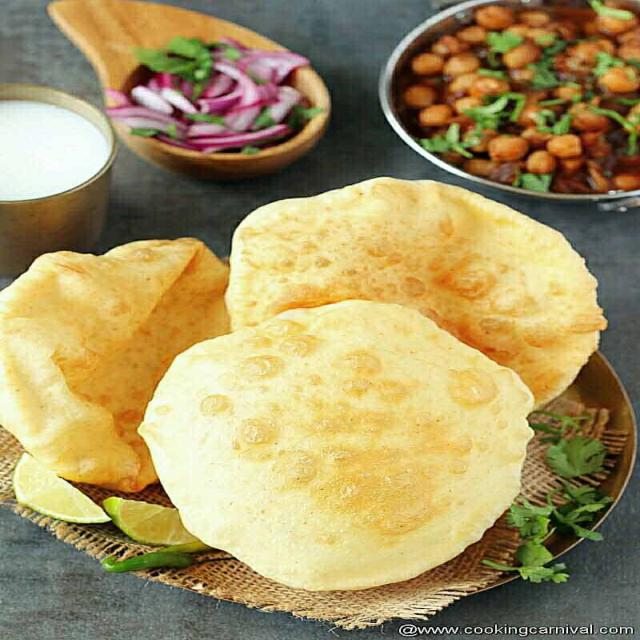chole: (366, 9, 640, 190)
puri: (142, 301, 532, 590), (227, 177, 606, 407), (0, 238, 229, 491)
